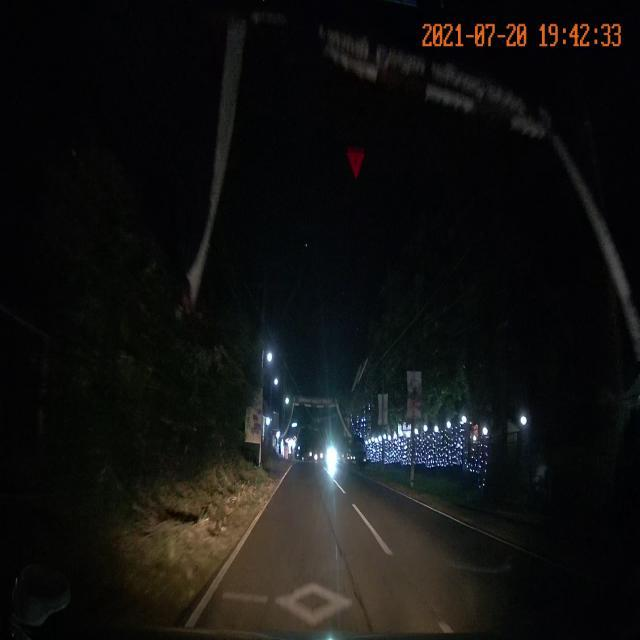diamond: (185, 567, 464, 626)
